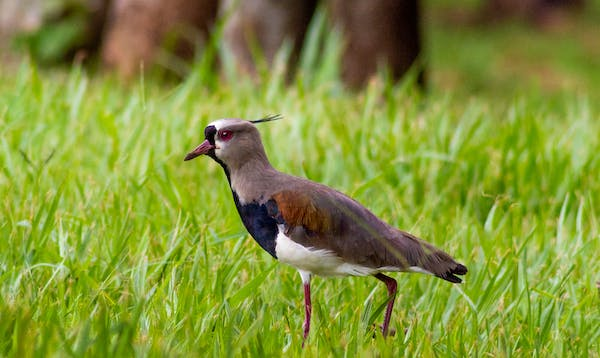Walking: (169, 95, 502, 354)
